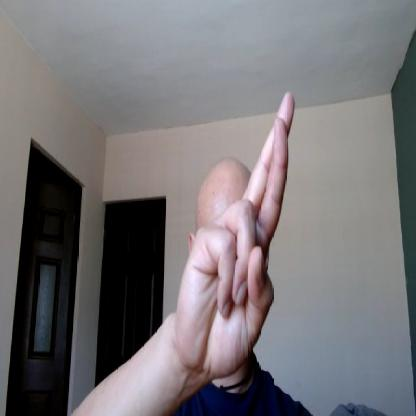R: (180, 90, 296, 377)
